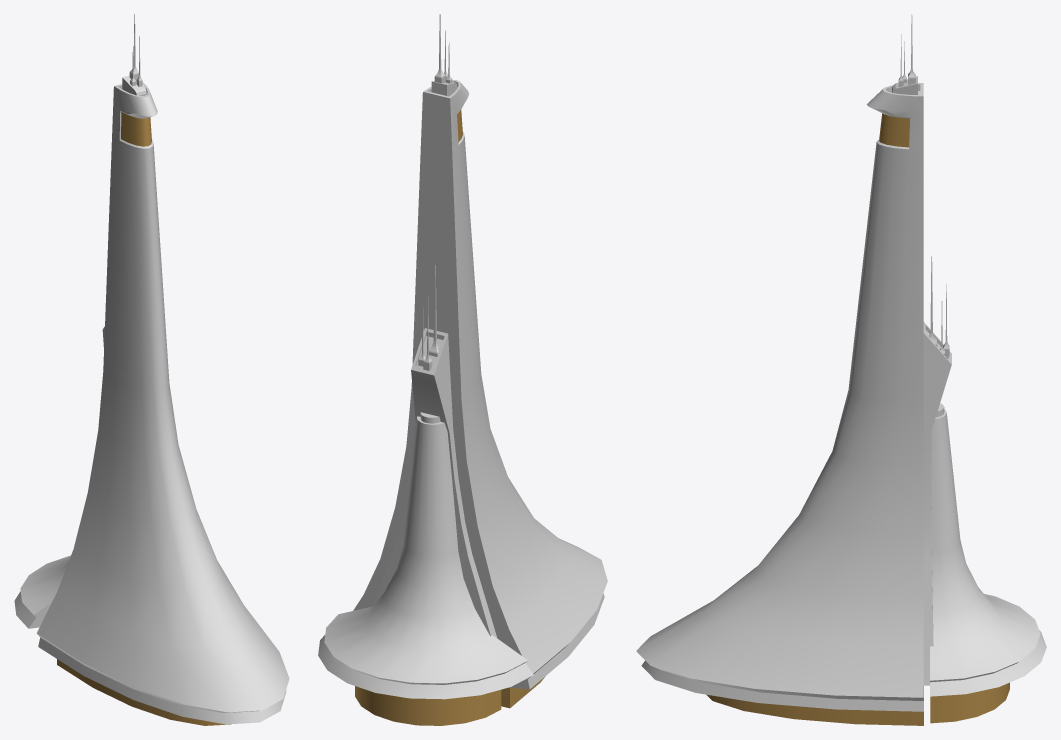
Rendered from Skyscraper1.glb.
3 renders of one model, left to right at view 1: azimuth 30°, elevation 25°; view 2: azimuth 150°, elevation 25°; view 3: azimuth 270°, elevation 25°, orthographic. The views are drawn at different scales.
Visible parts, largest first — view 1: Coruscant; view 2: Coruscant; view 3: Coruscant.
Part boxes in pixels (<box>): Coruscant: <box>14,14,289,725</box>; Coruscant: <box>318,14,607,725</box>; Coruscant: <box>636,14,1046,725</box>.
Size of the model in its own units: 33.49 by 107 by 58.84.
